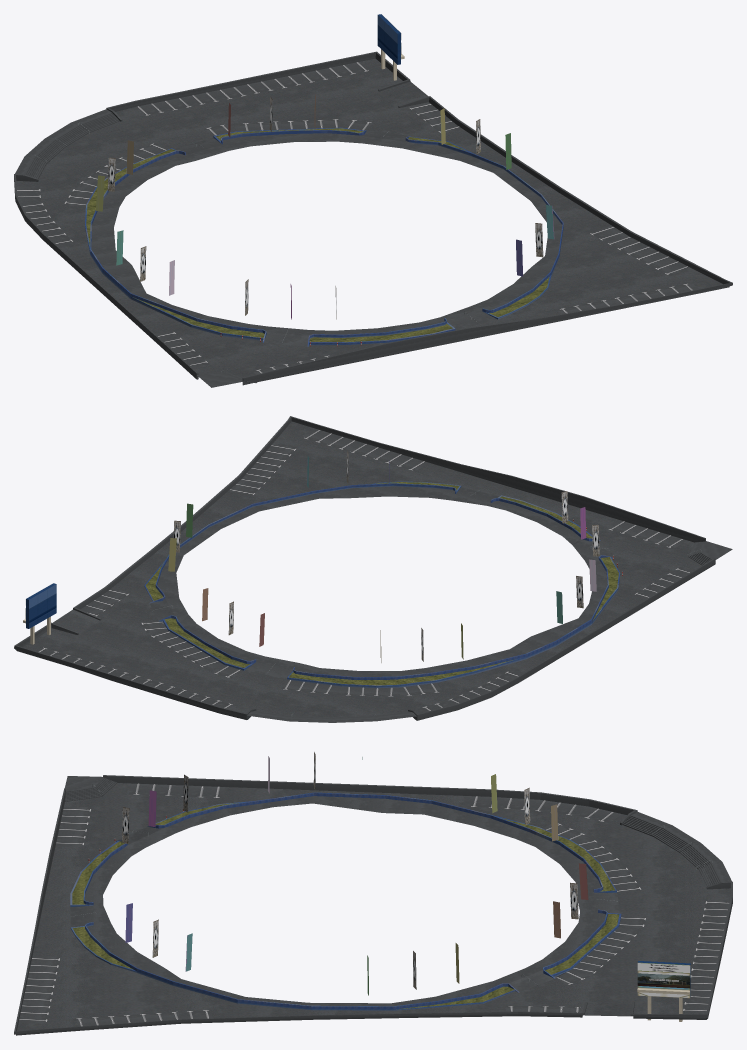
Rendered from stadtplaza_lae2.obj.
The picture shows the model from 3 angles, top to bottom: view 1: azimuth 30°, elevation 25°; view 2: azimuth 150°, elevation 25°; view 3: azimuth 270°, elevation 25°; orthographic projection. The views are drawn at different scales.
Visible parts, largest first — view 1: stadtplaza_lae2; view 2: stadtplaza_lae2; view 3: stadtplaza_lae2.
Boxes of the visible parts, x1,y1,x2,y2 form: stadtplaza_lae2: (14, 14, 732, 387); stadtplaza_lae2: (14, 416, 732, 722); stadtplaza_lae2: (14, 752, 732, 1035).
Size of the model in its own units: 190 by 19.62 by 223.
